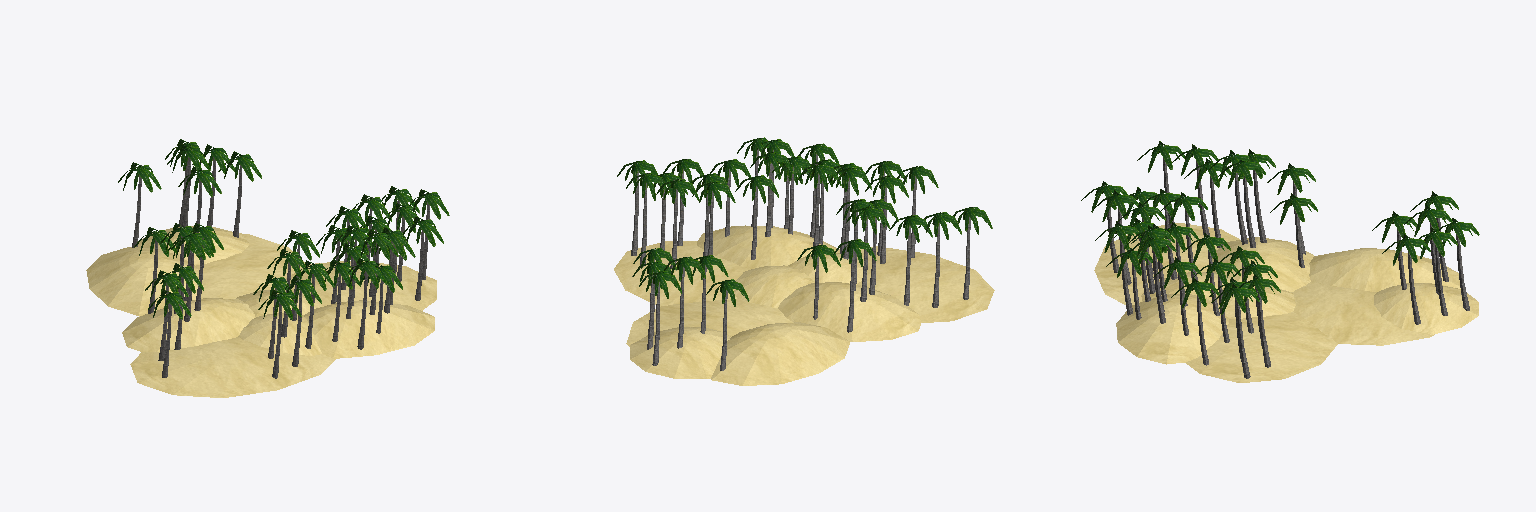
3 renders of one model, left to right at view 1: azimuth 30°, elevation 25°; view 2: azimuth 150°, elevation 25°; view 3: azimuth 270°, elevation 25°, orthographic.
Parts seen in each view (by area): view 1: pCylinder4 Mesh, pCylinder6 Mesh, pCylinder5 Mesh, group1 pasted__palm11 Mesh, group1 pasted__palm13 Mesh, group1 pasted__palm15 Mesh, group1 pasted__palm33 Mesh, group1 pasted__palm35 Mesh, group1 pasted__palm23 Mesh, group1 pasted__palm8 Mesh, group1 pasted__palm31 Mesh, group1 pasted__palm9 Mesh (+14 smaller); view 2: pCylinder6 Mesh, pCylinder4 Mesh, pCylinder5 Mesh, group1 pasted__palm7 Mesh, group1 pasted__palm32 Mesh, group1 pasted__palm9 Mesh, group1 pasted__palm11 Mesh, group1 pasted__palm33 Mesh, group1 pasted__palm31 Mesh, group1 pasted__palm10 Mesh, group1 pasted__palm2 Mesh, group1 pasted__palm26 Mesh (+17 smaller); view 3: pCylinder6 Mesh, pCylinder5 Mesh, pCylinder4 Mesh, group1 pasted__palm25 Mesh, group1 pasted__palm35 Mesh, group1 pasted__palm23 Mesh, group1 pasted__palm19 Mesh, group1 pasted__palm3 Mesh, group1 pasted__palm32 Mesh, group1 pasted__palm30 Mesh, group1 pasted__palm29 Mesh, group1 pasted__palm15 Mesh (+20 smaller).
Boxes of the visible parts, x1=… form: pCylinder4 Mesh: x1=122, y1=298, x2=335, y2=397; pCylinder6 Mesh: x1=86, y1=226, x2=304, y2=316; pCylinder5 Mesh: x1=236, y1=261, x2=436, y2=358; group1 pasted__palm11 Mesh: x1=148, y1=289, x2=191, y2=377; group1 pasted__palm13 Mesh: x1=258, y1=290, x2=301, y2=378; group1 pasted__palm15 Mesh: x1=348, y1=258, x2=387, y2=349; group1 pasted__palm33 Mesh: x1=118, y1=162, x2=161, y2=247; group1 pasted__palm35 Mesh: x1=218, y1=151, x2=261, y2=237; group1 pasted__palm23 Mesh: x1=403, y1=217, x2=443, y2=300; group1 pasted__palm8 Mesh: x1=285, y1=276, x2=321, y2=366; group1 pasted__palm31 Mesh: x1=167, y1=144, x2=210, y2=227; group1 pasted__palm9 Mesh: x1=134, y1=227, x2=176, y2=313; pCylinder6 Mesh: x1=626, y1=299, x2=849, y2=385; pCylinder4 Mesh: x1=778, y1=246, x2=994, y2=341; pCylinder5 Mesh: x1=614, y1=225, x2=839, y2=307; group1 pasted__palm7 Mesh: x1=918, y1=212, x2=961, y2=307; group1 pasted__palm32 Mesh: x1=639, y1=271, x2=681, y2=365; group1 pasted__palm9 Mesh: x1=833, y1=239, x2=876, y2=332; group1 pasted__palm11 Mesh: x1=949, y1=207, x2=992, y2=299; group1 pasted__palm33 Mesh: x1=706, y1=279, x2=749, y2=370; group1 pasted__palm31 Mesh: x1=664, y1=256, x2=705, y2=348; group1 pasted__palm10 Mesh: x1=889, y1=215, x2=932, y2=305; group1 pasted__palm2 Mesh: x1=846, y1=206, x2=889, y2=301; group1 pasted__palm26 Mesh: x1=735, y1=175, x2=778, y2=259; pCylinder6 Mesh: x1=1292, y1=248, x2=1478, y2=345; pCylinder5 Mesh: x1=1116, y1=285, x2=1337, y2=382; pCylinder4 Mesh: x1=1094, y1=223, x2=1313, y2=304; group1 pasted__palm25 Mesh: x1=1211, y1=284, x2=1259, y2=378; group1 pasted__palm35 Mesh: x1=1382, y1=234, x2=1430, y2=324; group1 pasted__palm23 Mesh: x1=1171, y1=278, x2=1219, y2=365; group1 pasted__palm19 Mesh: x1=1128, y1=237, x2=1176, y2=323; group1 pasted__palm3 Mesh: x1=1218, y1=158, x2=1265, y2=247; group1 pasted__palm32 Mesh: x1=1439, y1=218, x2=1479, y2=310; group1 pasted__palm30 Mesh: x1=1419, y1=227, x2=1457, y2=315; group1 pasted__palm29 Mesh: x1=1239, y1=274, x2=1280, y2=367; group1 pasted__palm15 Mesh: x1=1095, y1=221, x2=1141, y2=315.
Bounding box in the file's own units: 62.4 × 21.65 × 64.06.
Materials: 39 (1 with a texture image).